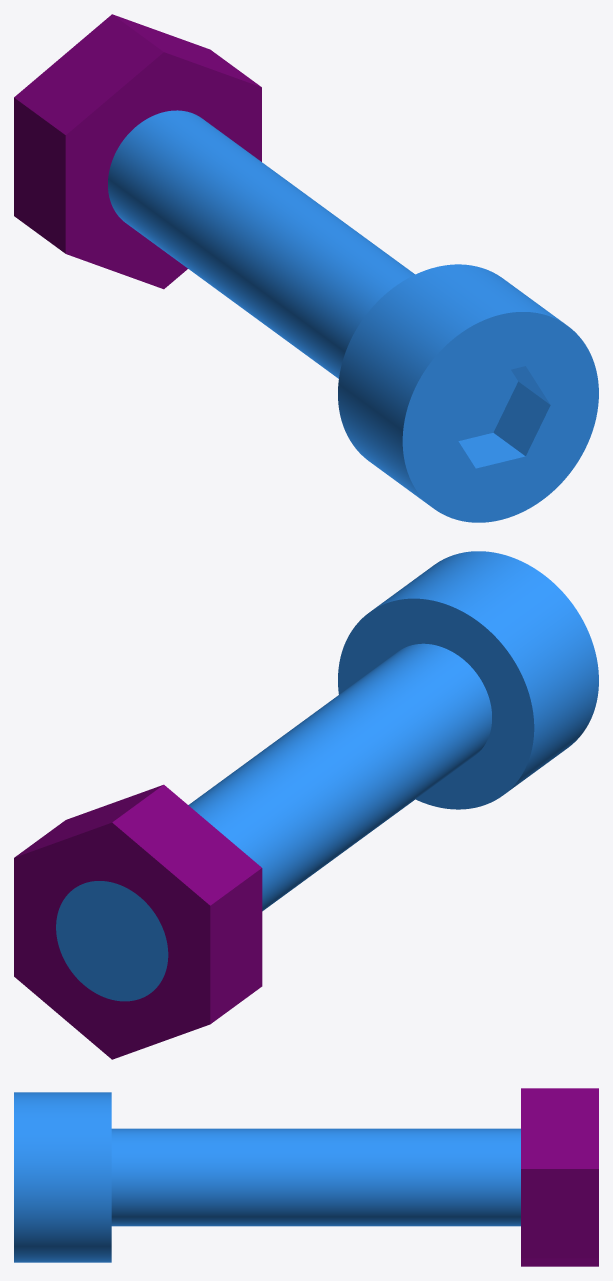
Rendered from assembly.glb.
3 views of the same model, one above another, from view 1: azimuth 30°, elevation 25°; view 2: azimuth 150°, elevation 25°; view 3: azimuth 270°, elevation 25° (orthographic). The views are drawn at different scales.
Parts seen in each view (by area): view 1: screw/ISO4762-M4-20/body, nut/ISO4032-M4/body; view 2: screw/ISO4762-M4-20/body, nut/ISO4032-M4/body; view 3: screw/ISO4762-M4-20/body, nut/ISO4032-M4/body.
Part boxes in pixels (x1,y1,x2,y2): screw/ISO4762-M4-20/body: [108, 110, 598, 522]; nut/ISO4032-M4/body: [14, 14, 261, 289]; screw/ISO4762-M4-20/body: [56, 551, 598, 1001]; nut/ISO4032-M4/body: [14, 784, 262, 1059]; screw/ISO4762-M4-20/body: [14, 1092, 520, 1262]; nut/ISO4032-M4/body: [521, 1088, 598, 1266].
Size of the model in its own units: 0.007 by 0.00808 by 0.024.
